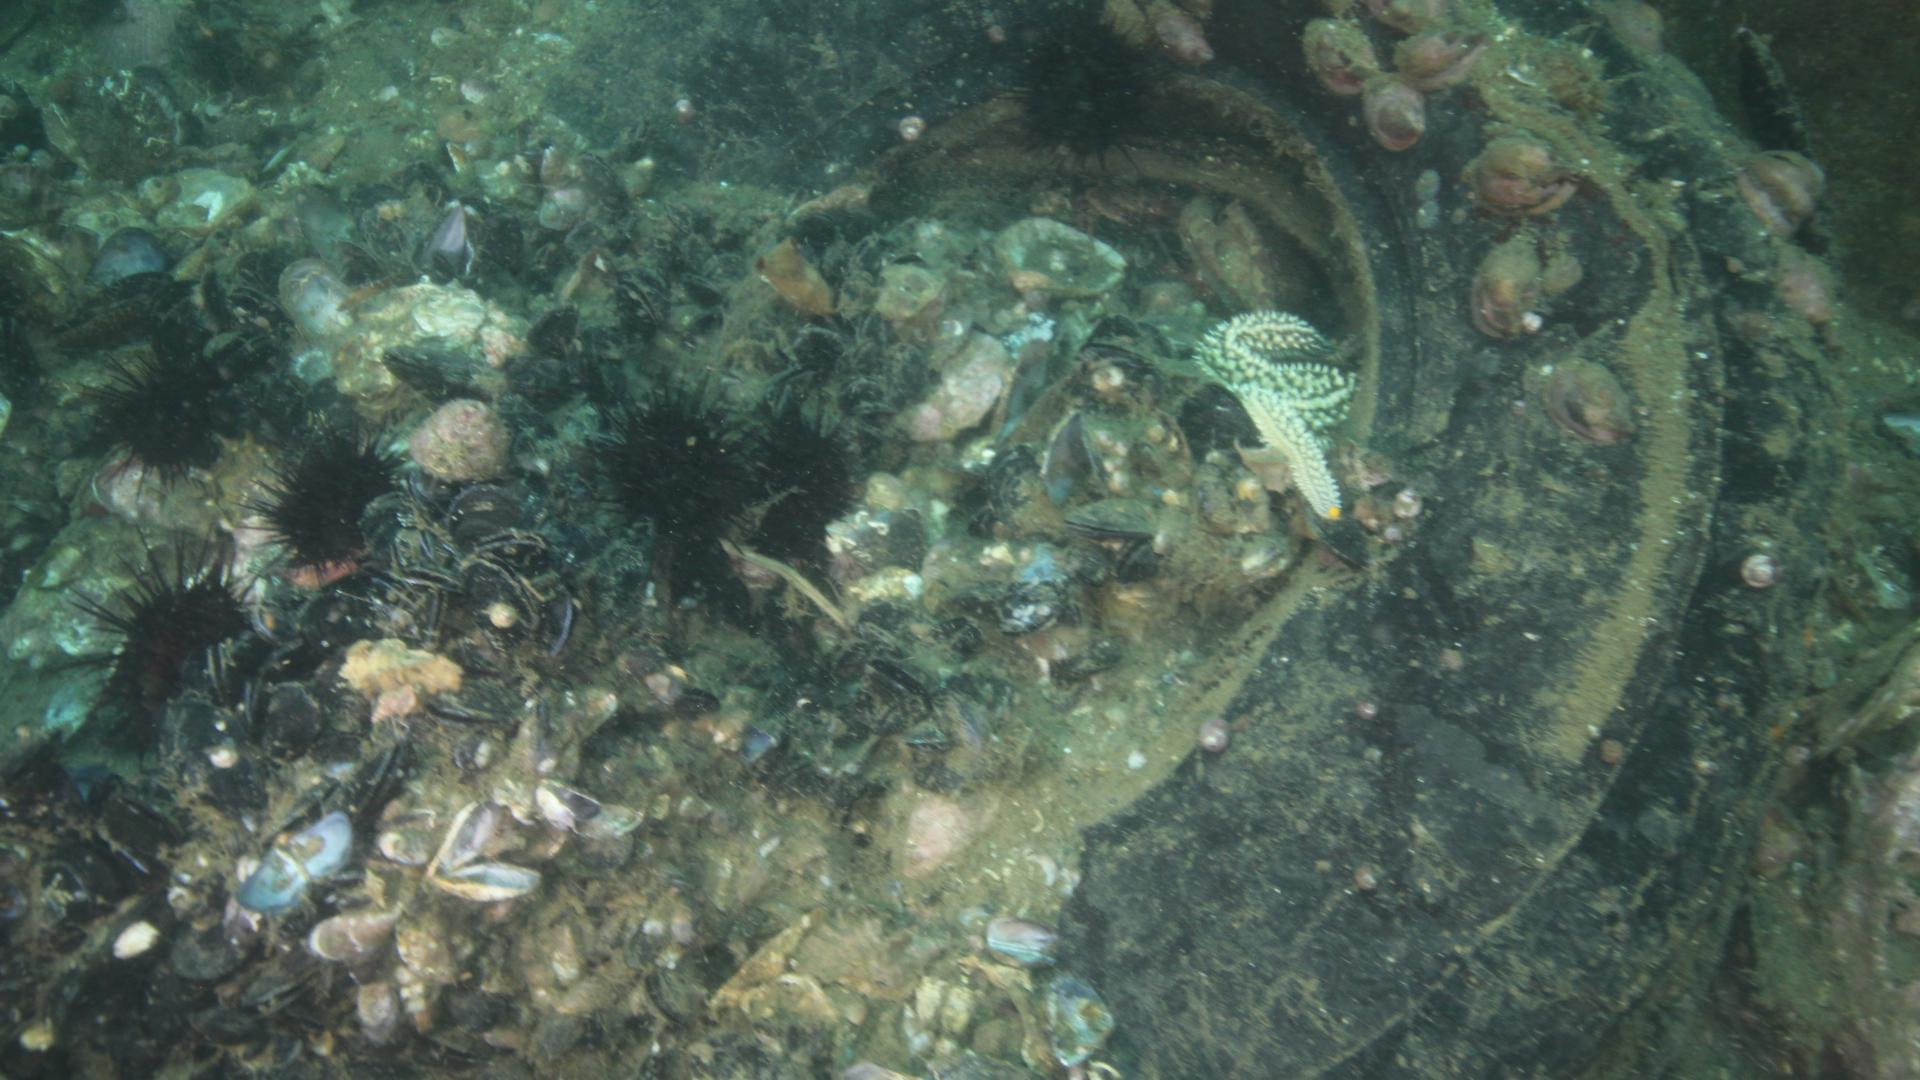tire: (583, 0, 1851, 1080)
